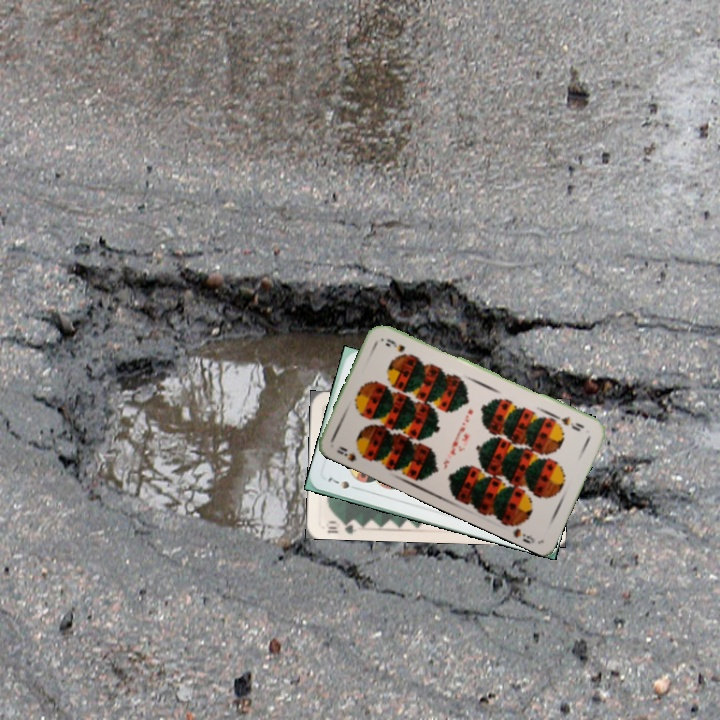G10: (322, 515, 361, 536)
S7: (324, 473, 362, 492)
S9: (333, 442, 370, 464), (552, 412, 587, 434)
